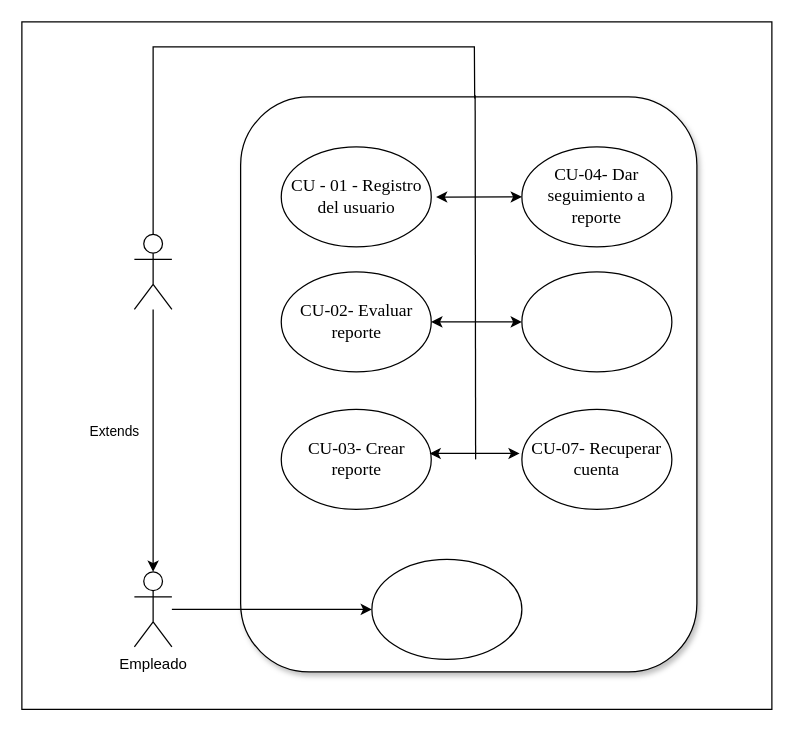
The diagram is 794 pixels wide and 731 high, and some of its shapes have lost their labels. Each missing label, with the centre of its shape:
"Ciudadano" goes at (152,271).
"CU-05- Atender reporte" goes at (446,608).
"CU-06- Cambiar visibilidad del usuario" goes at (596,321).
